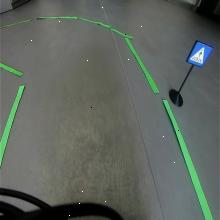crosswalk: (186, 40, 213, 67)
